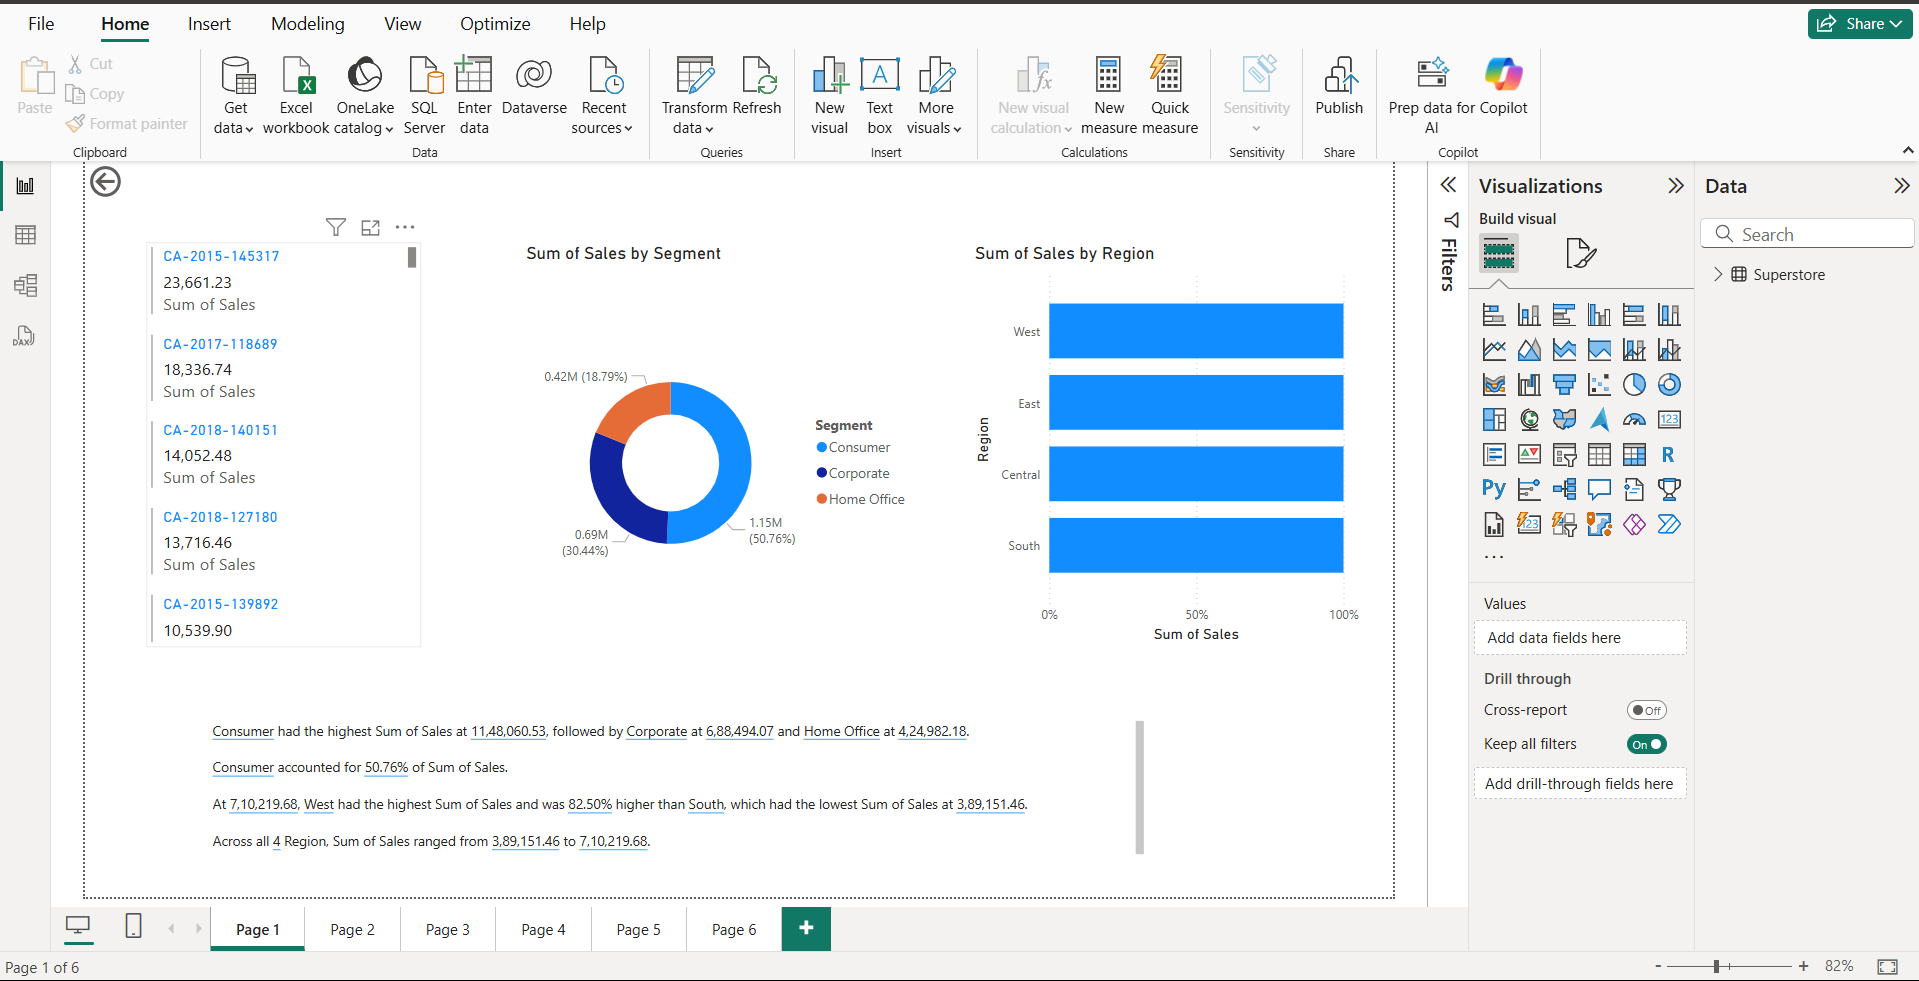

Layout of this report page (visuals, bound fields, positions):
{"tool":"powerbi","page":{"name":"Page 1","canvas":[1280,720],"ordinal":0},"visuals":[{"type":"actionButton","box":[0,0,100,40],"z":0},{"type":"donutChart","fields":{"Category":["train.Segment"],"Y":["Sum(train.Sales)"]},"box":[426.8,79.6,389.7,413],"z":1000},{"type":"hundredPercentStackedBarChart","fields":{"Y":["Sum(train.Sales)"],"Category":["train.Region"]},"box":[865.9,79.6,385.6,396.6],"z":2000},{"type":"textbox","box":[119.4,543.4,920.8,155.1],"z":3000},{"type":"multiRowCard","fields":{"Values":["Sum(train.Sales)","train.Order ID"]},"box":[60.4,79.6,269,396.6],"z":4000}]}

Visuals, with their boxes on the page's 1280x720 design canvas (x1, y1, x2, y2). These are canvas units, not pixel positions in the 1919x981 screenshot, which may show the page scaled, cropped or inside an application window:
actionButton: 0, 0, 100, 40
donutChart - train.Segment x Sum(train.Sales): 427, 80, 816, 493
hundredPercentStackedBarChart - Sum(train.Sales) x train.Region: 866, 80, 1252, 476
textbox: 119, 543, 1040, 698
multiRowCard - Sum(train.Sales) x train.Order ID: 60, 80, 329, 476
